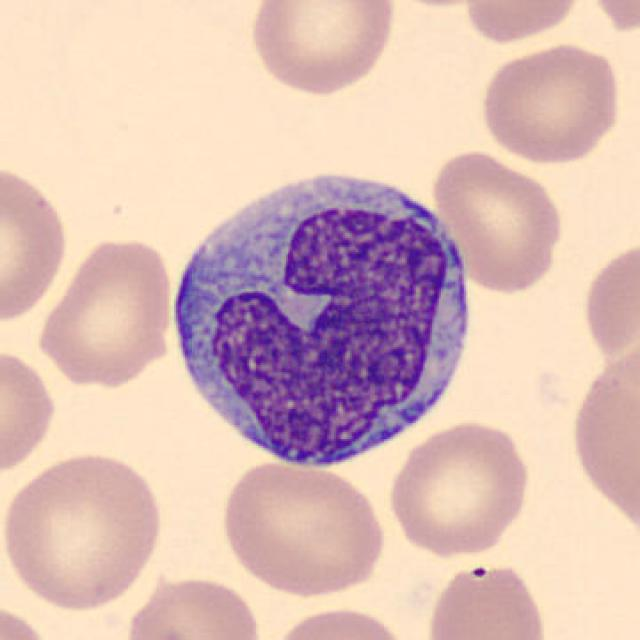Monocyte: (160, 155, 484, 480)
RBC: (0, 448, 167, 613), (215, 456, 389, 600), (32, 232, 178, 390), (384, 416, 533, 559), (429, 146, 567, 296), (474, 39, 626, 166), (565, 335, 640, 545), (246, 0, 398, 99), (0, 159, 71, 328), (421, 559, 553, 640), (121, 571, 267, 640), (0, 342, 60, 479), (578, 234, 638, 368), (462, 0, 587, 46), (265, 603, 412, 640), (0, 597, 57, 640), (583, 0, 640, 37)
